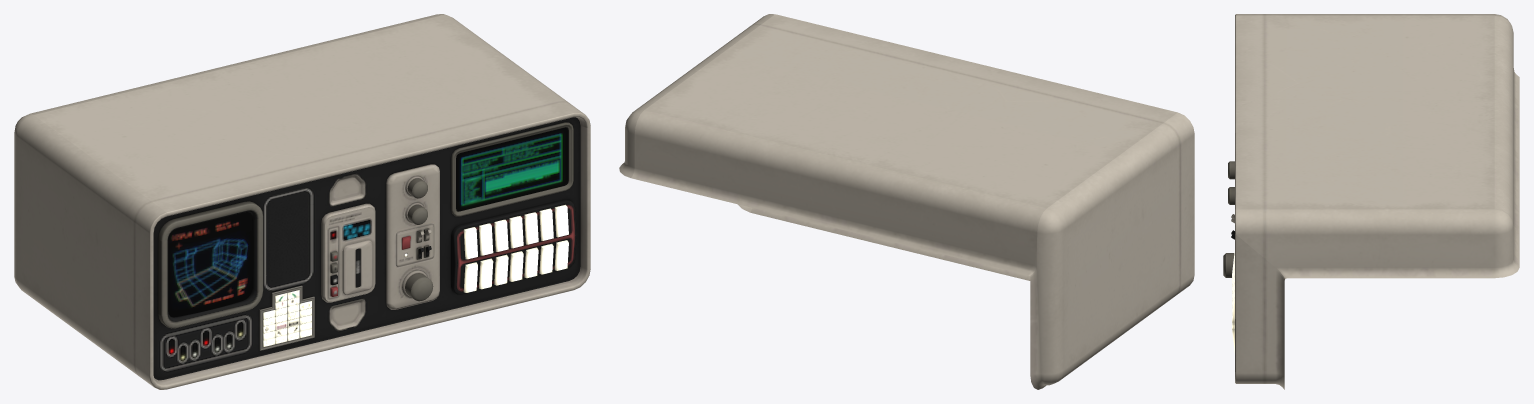
Rendered from medical-console.glb.
The picture shows the model from 3 angles, left to right: view 1: azimuth 30°, elevation 25°; view 2: azimuth 150°, elevation 25°; view 3: azimuth 270°, elevation 25°; orthographic projection. The views are drawn at different scales.
Visible parts, largest first — view 1: Body_low, Panels_low, Details_low, Buttons_low, Dials_low, Lights_1_low, Lights_2_low; view 2: Body_low; view 3: Body_low, Dials_low.
Boxes of the visible parts, box(x1,y1,x2,y2) form: Body_low: box(14, 14, 590, 389); Panels_low: box(158, 122, 576, 350); Details_low: box(168, 212, 433, 317); Buttons_low: box(330, 204, 568, 296); Dials_low: box(402, 176, 433, 301); Lights_1_low: box(263, 253, 407, 346); Lights_2_low: box(263, 293, 311, 343); Body_low: box(619, 14, 1194, 389); Body_low: box(1235, 14, 1519, 389); Dials_low: box(1223, 161, 1234, 277).
Bounding box in the file's own units: 39.98 × 15.65 × 23.57.
1 material, 1 textured.
